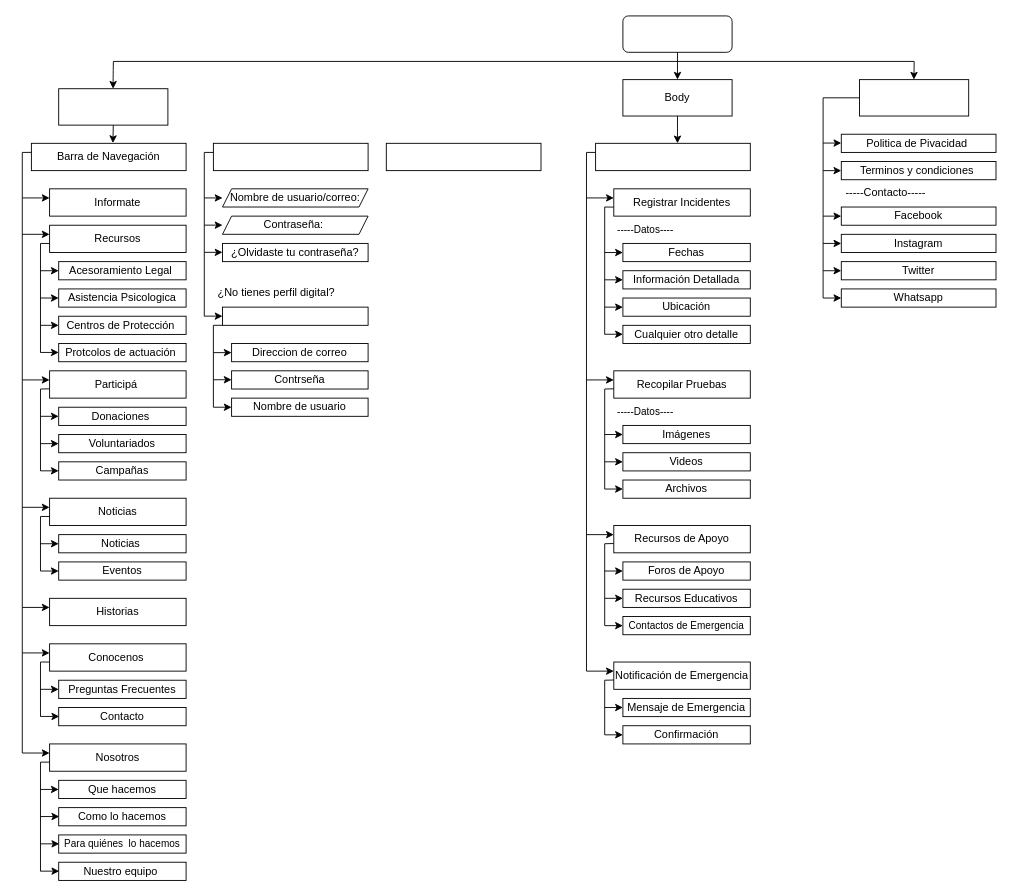
This 1030x896 diagram has some shape labels left out. The shapes that lost their labels are listed below. From the top down, each one's centre as x and y in pixels, then its label:
At point 677,33: "Inicio".
At point 113,106: "Encabezado".
At point 914,97: "Footer".
At point 290,156: "Ingresa".
At point 463,156: "Barra de busqueda".
At point 672,156: "Te escuchamos".
At point 295,315: "Registro".
